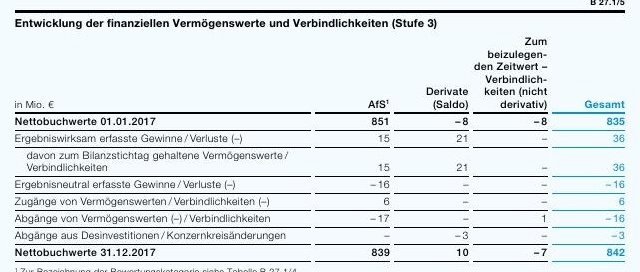table: (0, 0, 640, 272)
